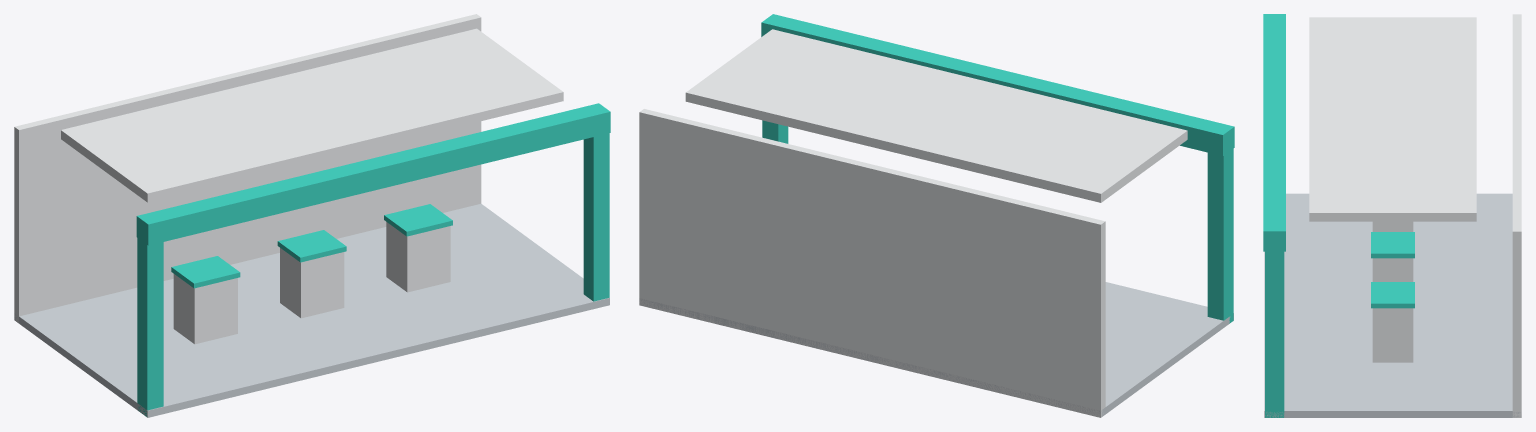
3 renders of one model, left to right at view 1: azimuth 30°, elevation 25°; view 2: azimuth 150°, elevation 25°; view 3: azimuth 270°, elevation 25°, orthographic. The views are drawn at different scales.
Visible parts, largest first — view 1: Exhibition Booth Concept; view 2: Exhibition Booth Concept; view 3: Exhibition Booth Concept.
Part boxes in pixels (x1,y1,x2,y2): Exhibition Booth Concept: (14, 14, 610, 417); Exhibition Booth Concept: (639, 14, 1234, 417); Exhibition Booth Concept: (1263, 14, 1521, 417).
Bounding box in the file's own units: 8 × 3.34 × 4.02.
